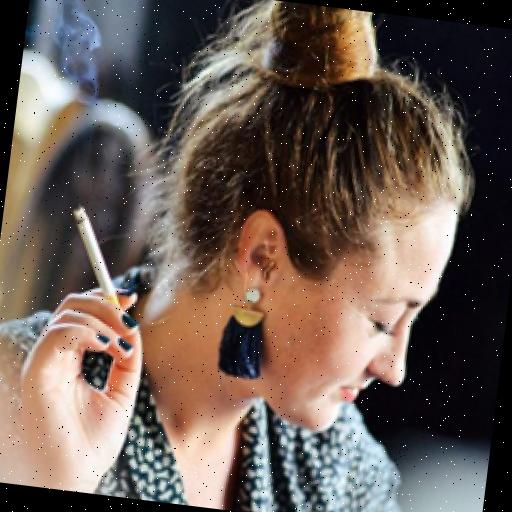terdeteksi pegang rokok: (6, 193, 182, 424)
